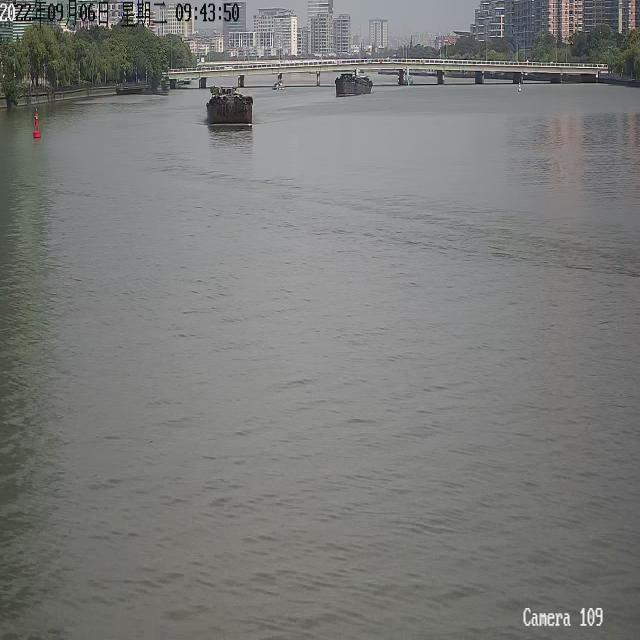ship: (205, 85, 252, 123), (334, 72, 372, 94), (272, 78, 284, 89)
